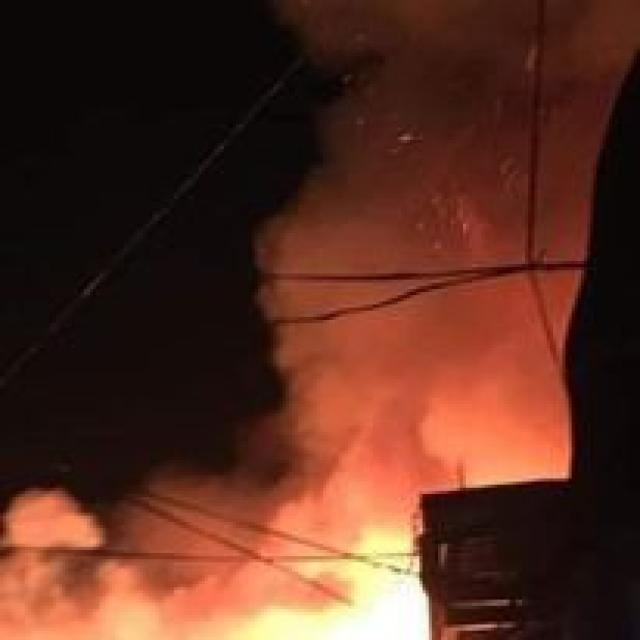Fire: (207, 499, 439, 640)
Smoke: (260, 0, 640, 485), (0, 464, 421, 640)
